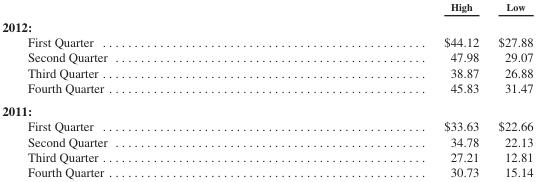table: (1, 0, 532, 178)
table column: (1, 0, 275, 178), (275, 0, 488, 178), (488, 0, 532, 178)
table column header: (1, 0, 532, 15)
table projected row header: (1, 98, 532, 118), (1, 15, 532, 33)
table row: (1, 98, 532, 118), (1, 79, 532, 98), (1, 15, 532, 33), (1, 33, 532, 49), (1, 148, 532, 164), (1, 0, 532, 15), (1, 49, 532, 64), (1, 64, 532, 79), (1, 118, 532, 133), (1, 133, 532, 148), (1, 164, 532, 178)
